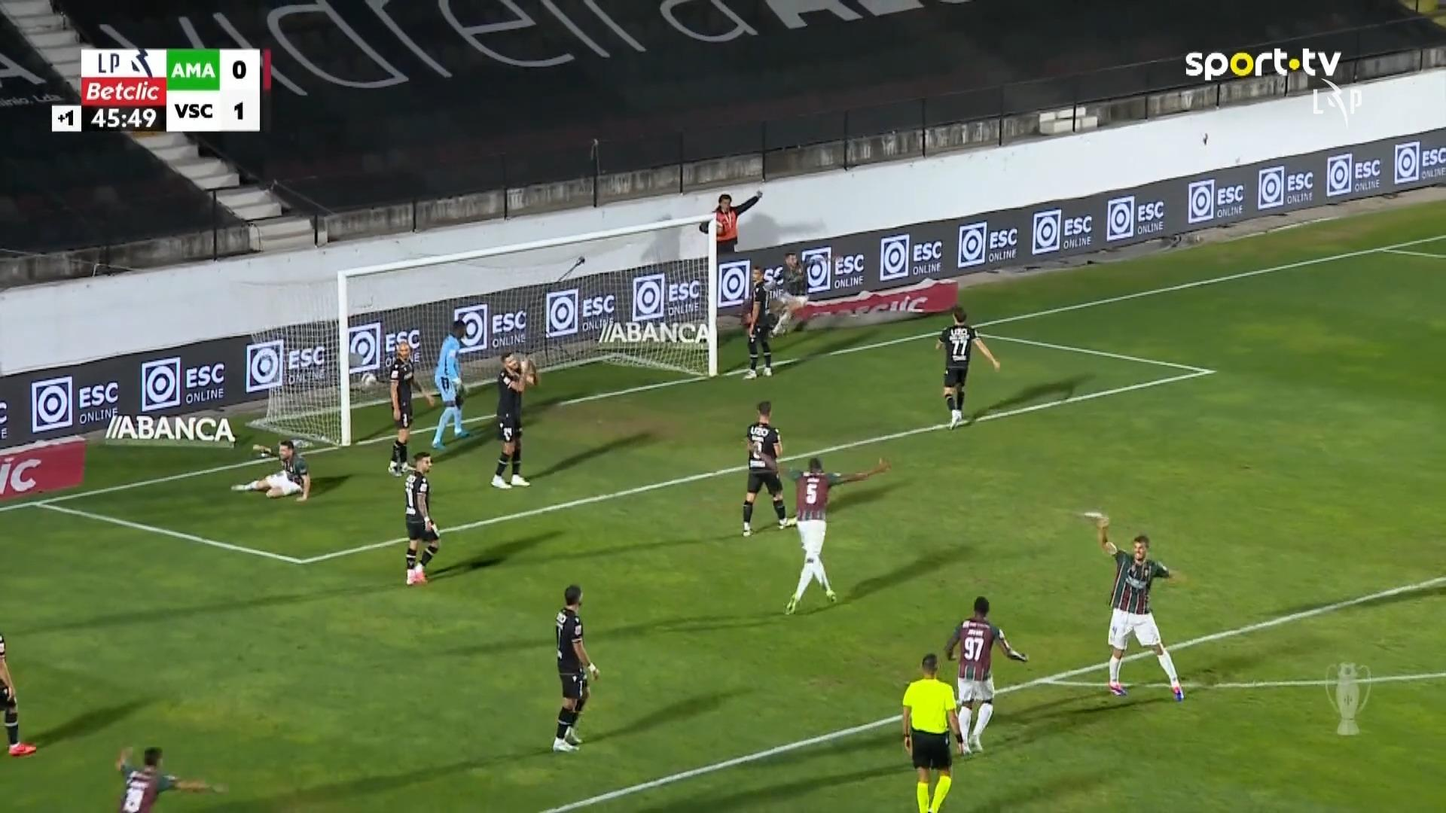ball: (361, 372, 377, 388)
goalkeeper: (430, 318, 471, 449)
player: (1089, 511, 1187, 702), (782, 455, 891, 615), (944, 595, 1028, 755), (934, 305, 1000, 430), (551, 583, 599, 752), (114, 744, 228, 811), (740, 400, 791, 537), (386, 340, 435, 476), (490, 352, 538, 489), (400, 451, 441, 585), (229, 438, 310, 502), (0, 632, 37, 756), (739, 266, 776, 379), (768, 251, 809, 337)
referee: (900, 653, 965, 811)
